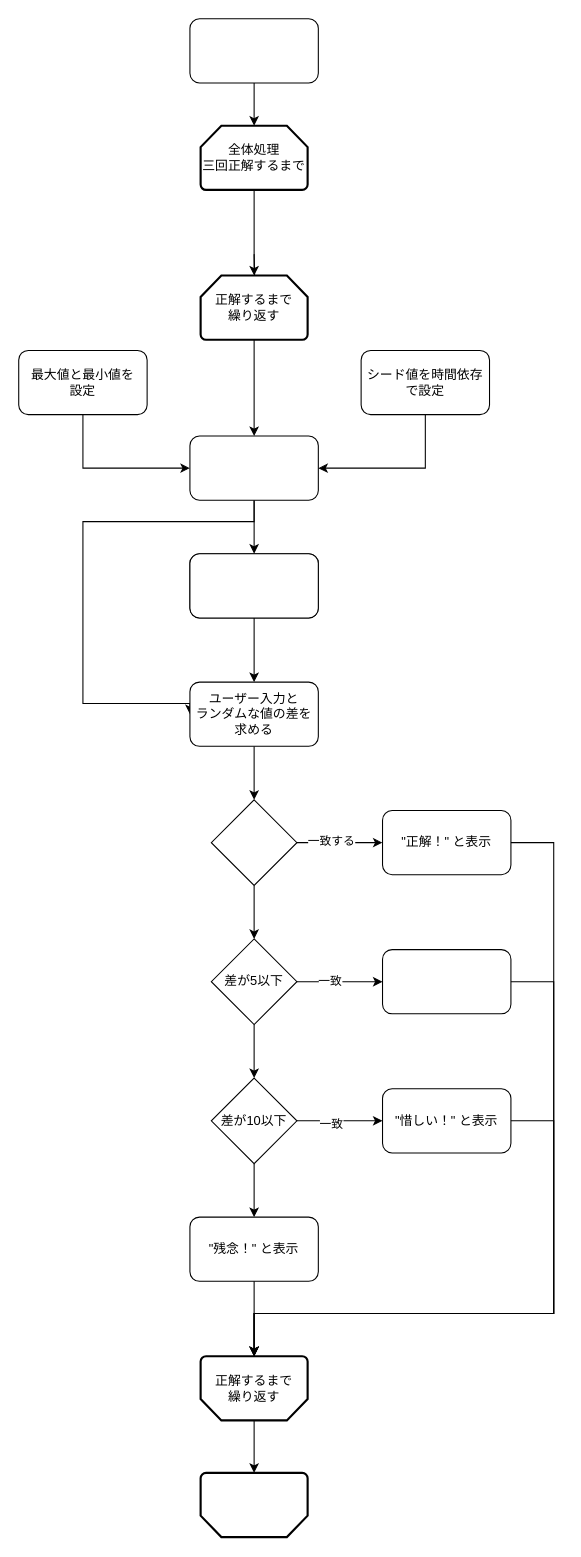
The diagram is 581 pixels wide and 1557 high, and some of its shapes have lost their labels. The centre of each missing label's shape, as x and y in pixels:
"とても惜しい！" と表示: the point at 446,981
ゲームスタート: the point at 253,50
ユーザー 入力と比較: the point at 253,842
ユーザー入力を 求める: the point at 253,585
ランダムな値を生成: the point at 253,467
全体処理: the point at 253,1504
